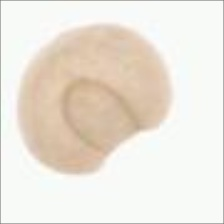L5: (59, 74, 139, 160), (27, 39, 62, 76)
L6: (15, 21, 176, 176)
